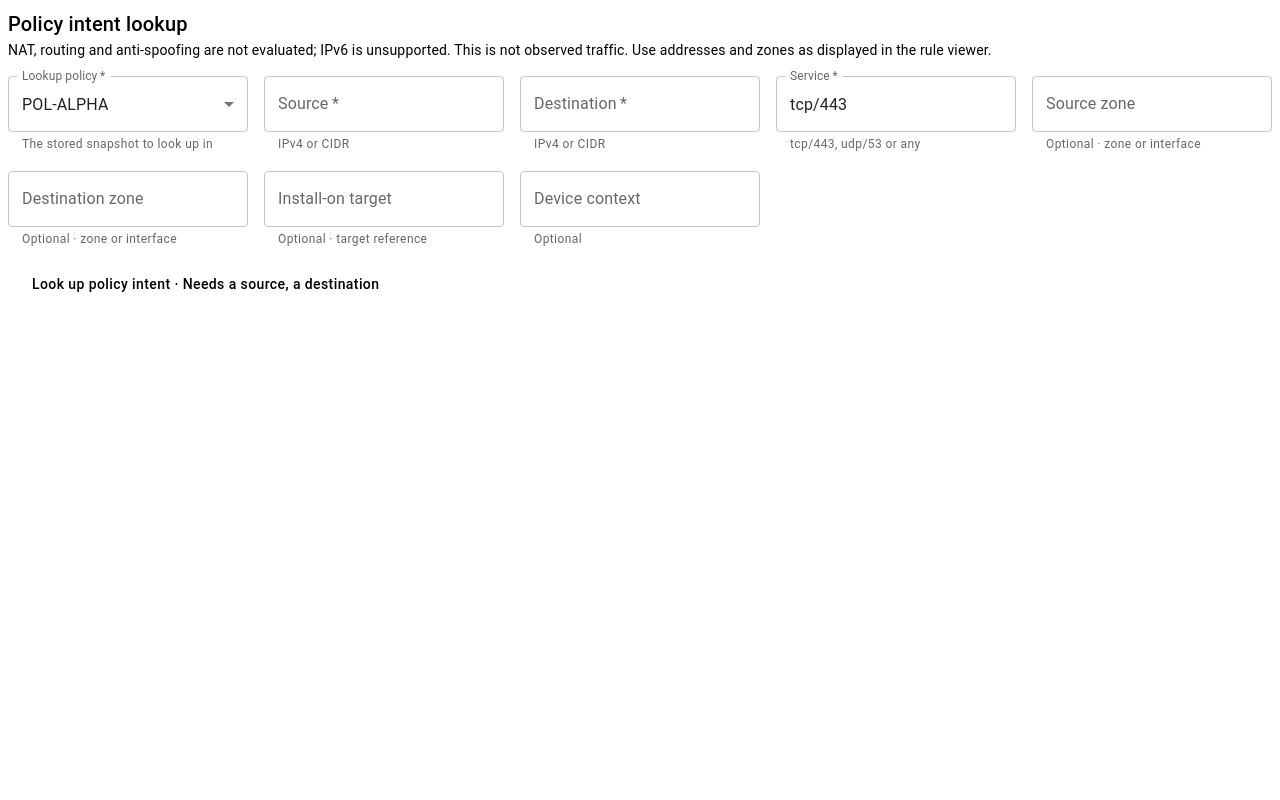
Test: renders partial ranges and implicit default deny
This screenshot has width=1280, height=800.
Type "192.0.2.8" into the field labelled "Source *". click: (384, 104)
box: [264,76,504,132]
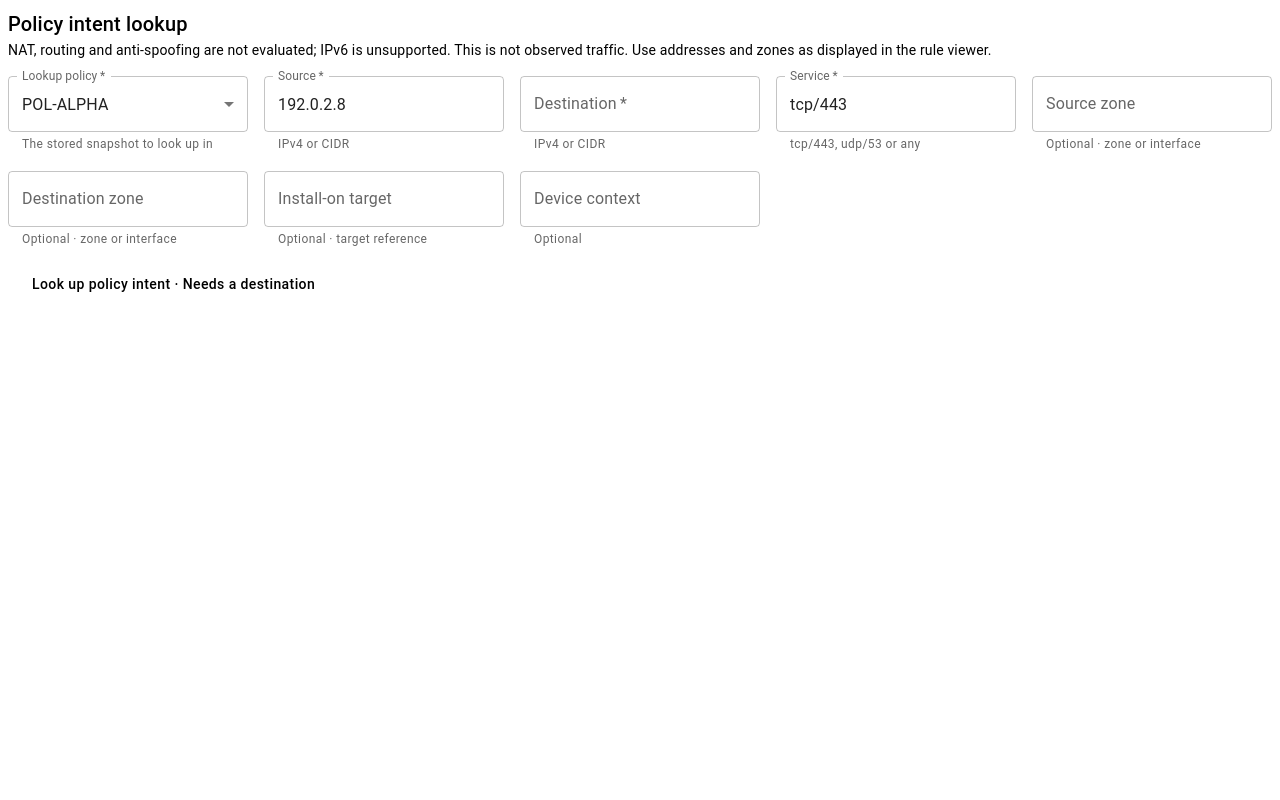
Type "198.51.100.8" into the field labelled "Destination *". click: (640, 104)
box: [520,76,760,132]
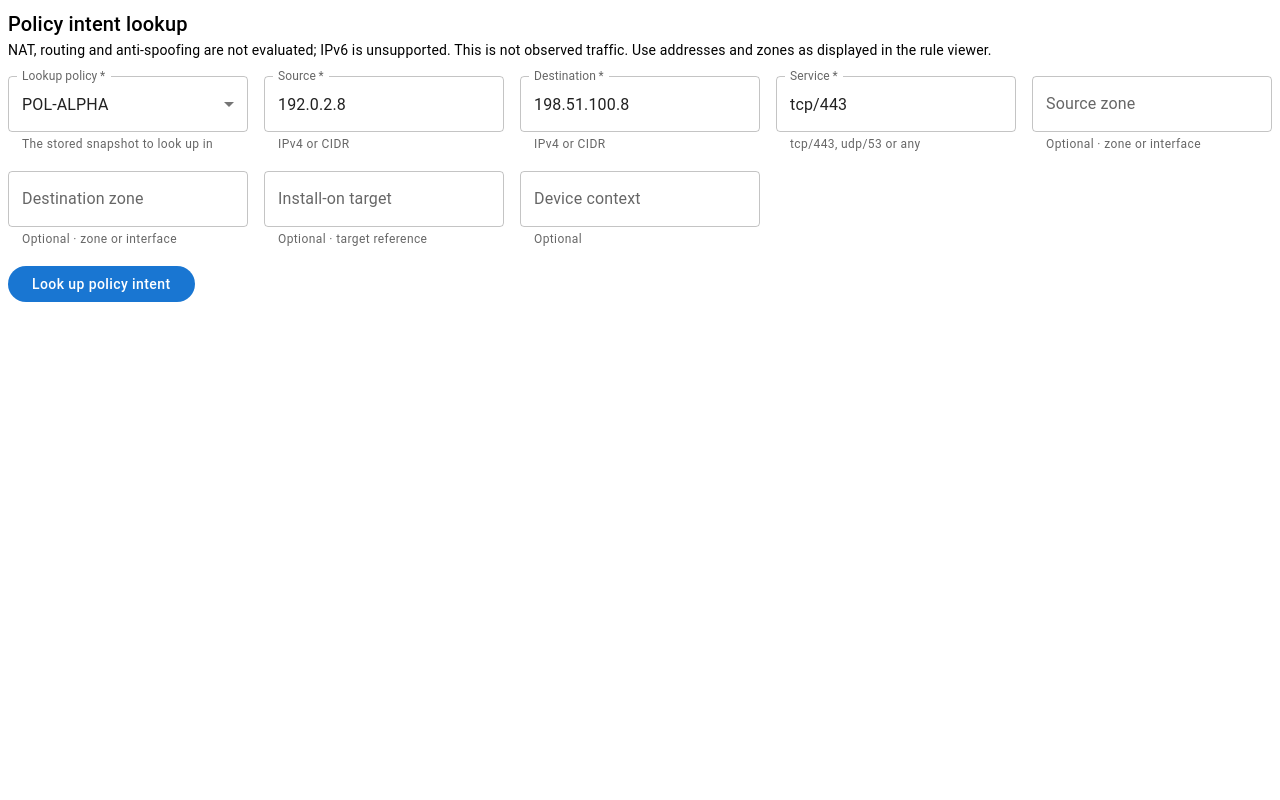
Click the button "Look up policy intent". click: (101, 284)
box: [8,266,194,302]
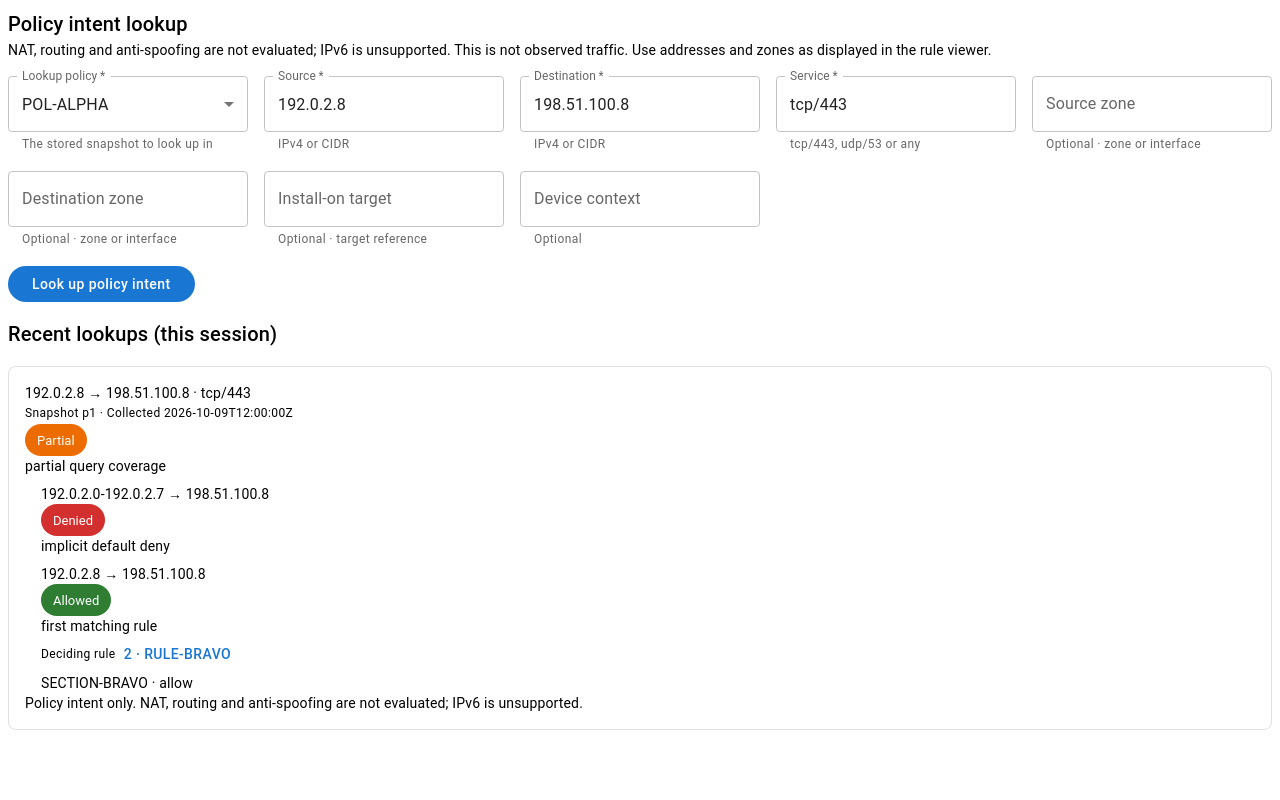
Expected: the text "Partial" is shown, [37,433,75,448]
Expected: the text "implicit default deny" is shown, [41,538,170,554]
Expected: the text "192.0.2.0-192.0.2.7 → 198.51.100.8" is shown, [41,486,269,502]
